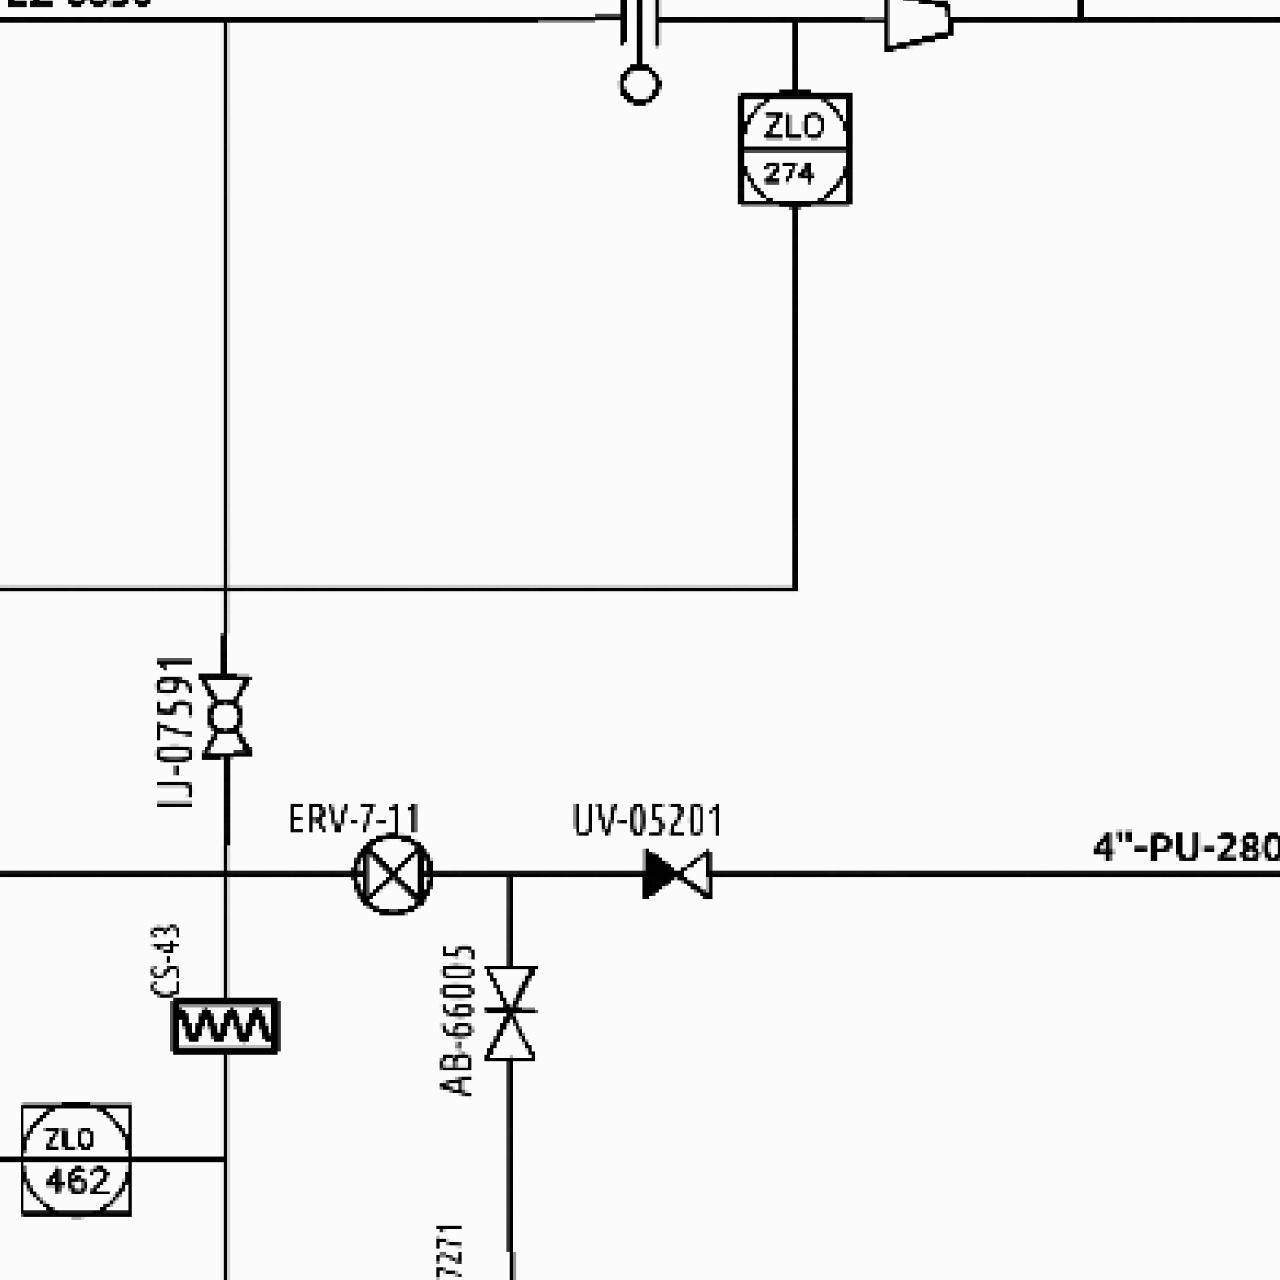Half closed valve: (638, 843, 715, 904)
